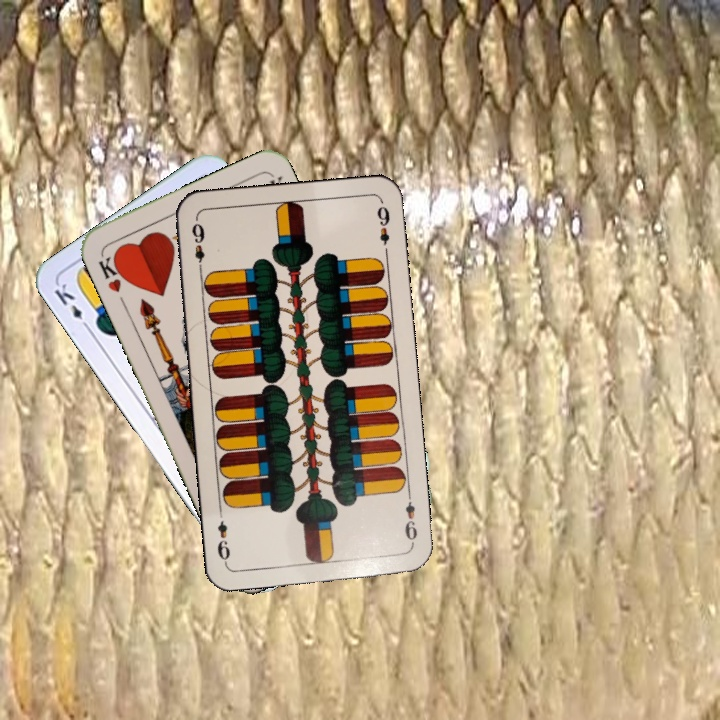E9: (400, 489, 420, 548), (188, 219, 208, 275)
EK: (50, 279, 93, 333)
HK: (94, 250, 130, 295)
